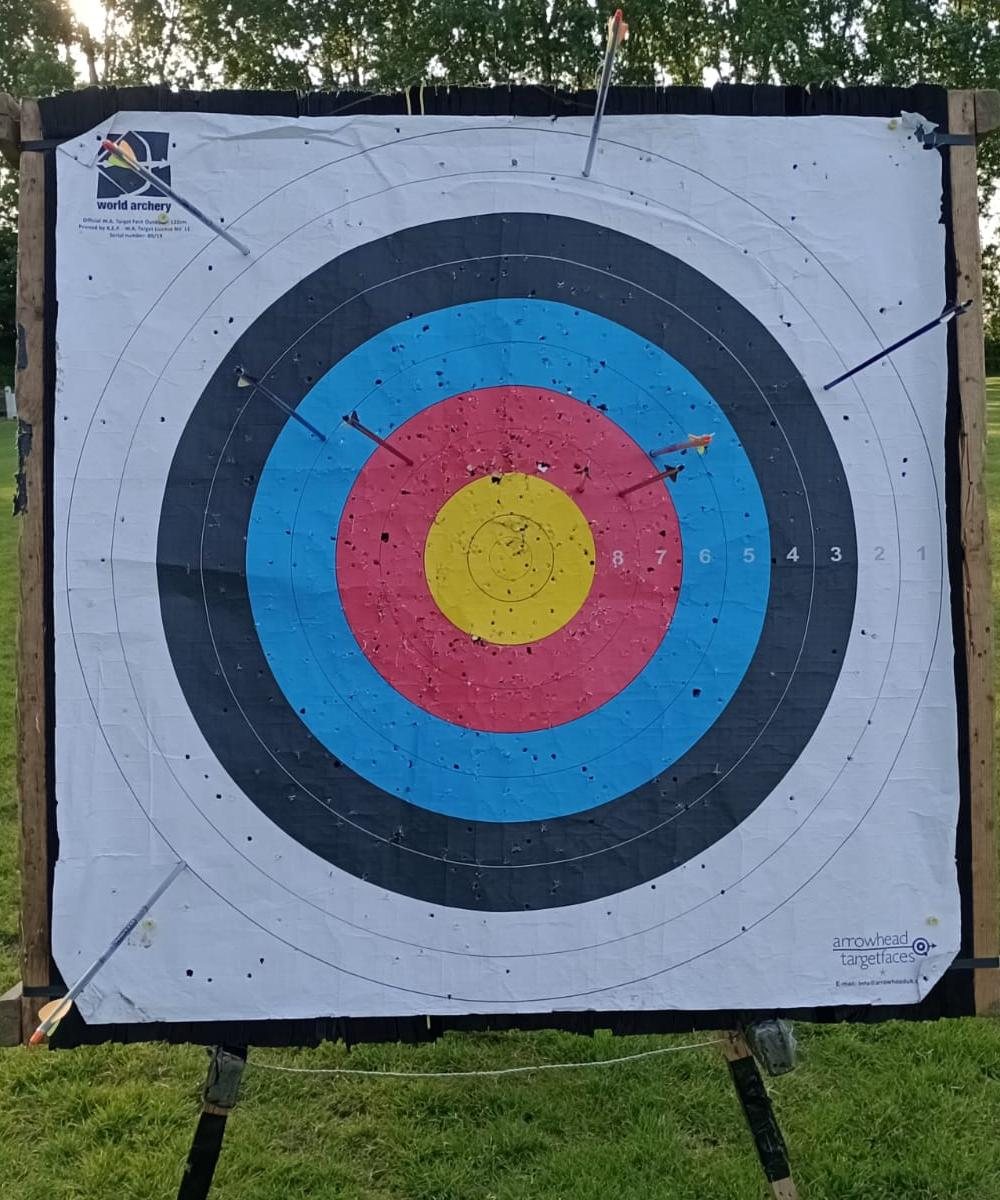1-Ring: (56, 121, 950, 1014)
10-Ring: (467, 513, 555, 604)
2-Ring: (112, 174, 898, 957)
3-Ring: (160, 214, 858, 913)
4-Ring: (201, 259, 816, 866)
5-Ring: (248, 299, 769, 822)
6-Ring: (202, 253, 816, 868)
7-Ring: (278, 328, 739, 790)
8-Ring: (361, 412, 663, 711)
9-Ring: (421, 470, 599, 649)
Arrow: (21, 849, 187, 1049), (97, 131, 260, 258), (818, 292, 976, 391), (574, 8, 631, 177), (228, 364, 334, 442), (336, 407, 422, 469), (616, 459, 688, 496), (651, 432, 716, 457), (573, 461, 594, 493)
